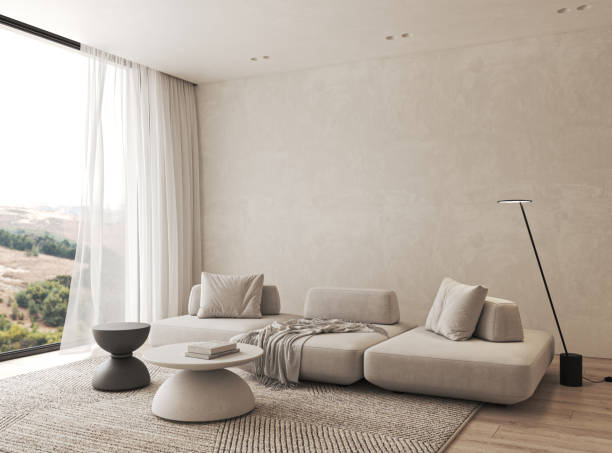floor lamp: (493, 192, 585, 389)
sofa: (147, 270, 558, 408)
table: (147, 341, 267, 422)
